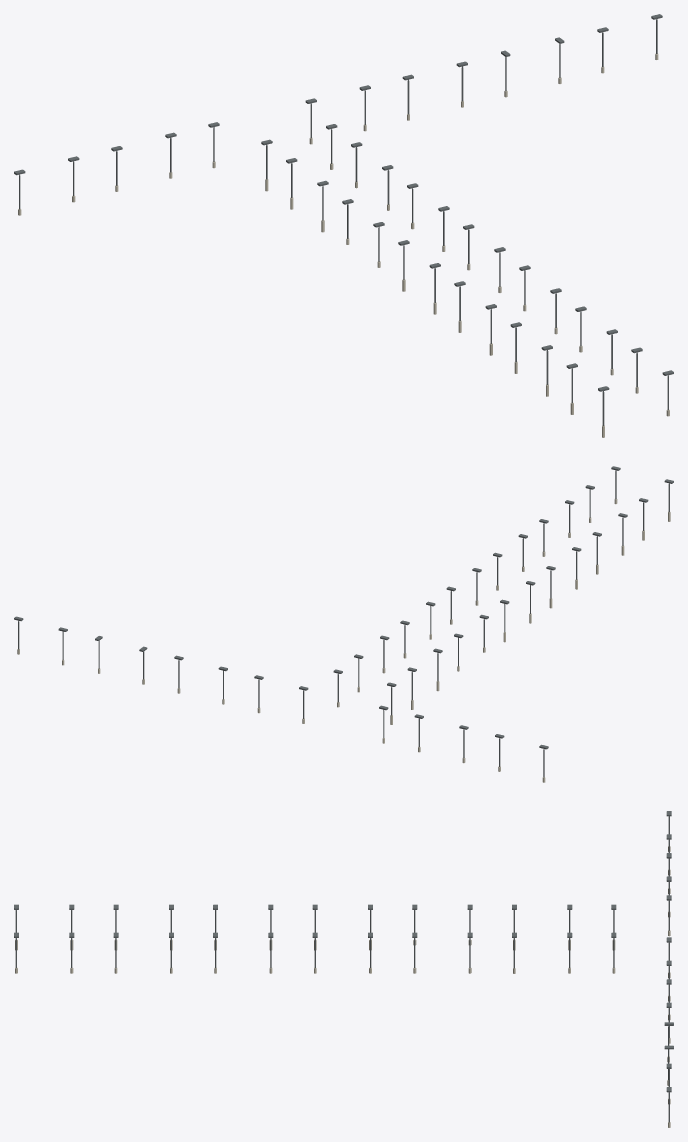
The picture shows the model from 3 angles, top to bottom: view 1: azimuth 30°, elevation 25°; view 2: azimuth 150°, elevation 25°; view 3: azimuth 270°, elevation 25°; orthographic projection. The views are drawn at different scales.
Parts seen in each view (by area): view 1: buildings_s_-10_4_Dark_Metal, buildings_s_-10_4_Warm_Limestone; view 2: buildings_s_-10_4_Dark_Metal, buildings_s_-10_4_Warm_Limestone; view 3: buildings_s_-10_4_Dark_Metal, buildings_s_-10_4_Warm_Limestone.
Boxes of the visible parts, <box> form: buildings_s_-10_4_Dark_Metal: <box>14,14,673,426</box>; buildings_s_-10_4_Warm_Limestone: <box>18,53,669,437</box>; buildings_s_-10_4_Dark_Metal: <box>14,466,673,777</box>; buildings_s_-10_4_Warm_Limestone: <box>17,499,670,782</box>; buildings_s_-10_4_Dark_Metal: <box>14,811,673,1122</box>; buildings_s_-10_4_Warm_Limestone: <box>15,846,670,1127</box>.
Size of the model in its own units: 120 by 8.7 by 119.
